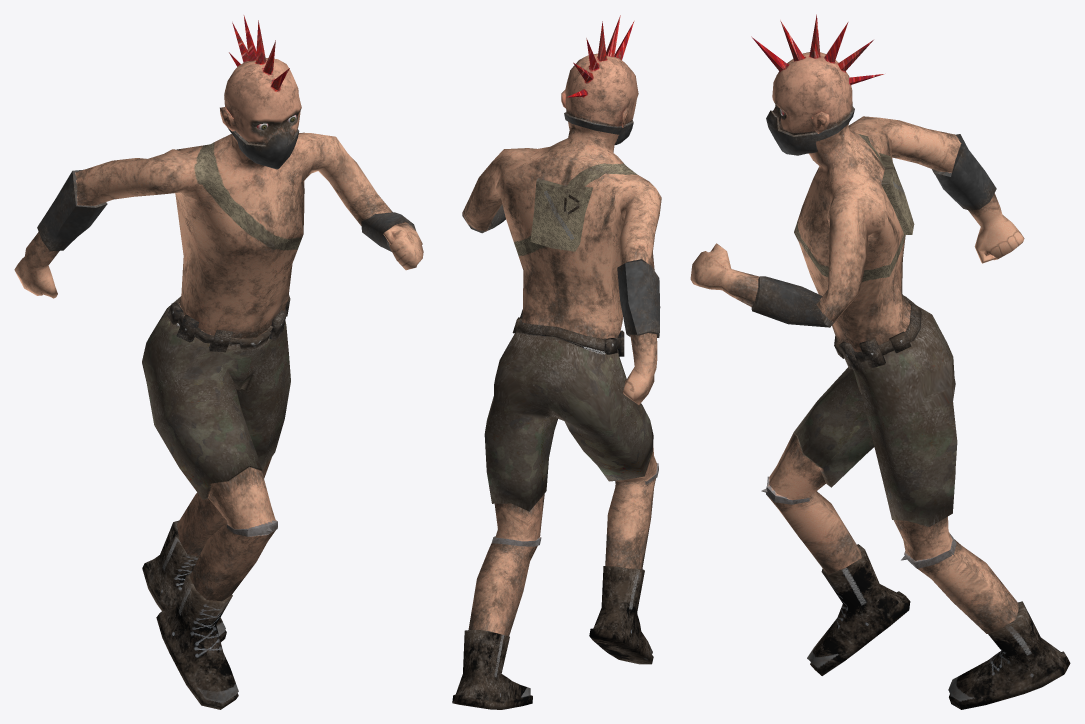
Rendered from Anim_correr_npc2.0029.obj.
3 renders of one model, left to right at view 1: azimuth 30°, elevation 25°; view 2: azimuth 150°, elevation 25°; view 3: azimuth 270°, elevation 25°, orthographic. The views are drawn at different scales.
Parts seen in each view (by area): view 1: Anim_correr_npc2; view 2: Anim_correr_npc2; view 3: Anim_correr_npc2.
Boxes of the visible parts, x1,y1,x2,y2 form: Anim_correr_npc2: (14,15,423,709); Anim_correr_npc2: (452,15,661,709); Anim_correr_npc2: (690,14,1070,709).
Bounding box in the file's own units: 4.36 × 9.8 × 4.98.
